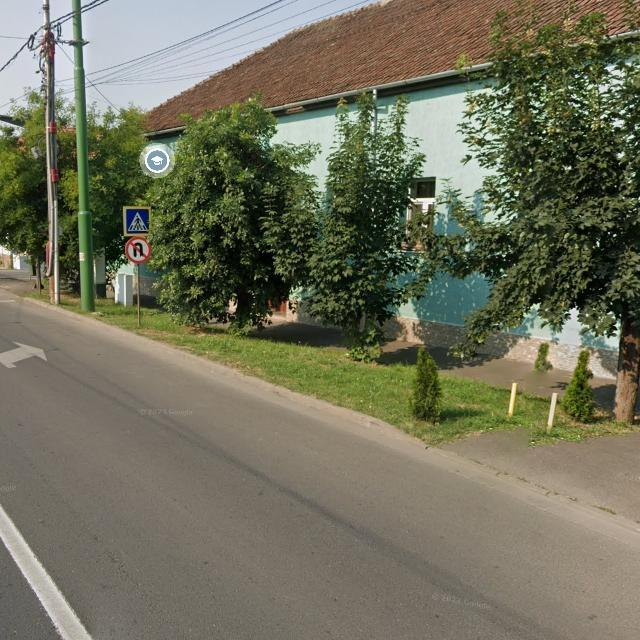info_crosswalk: (124, 206, 151, 236)
